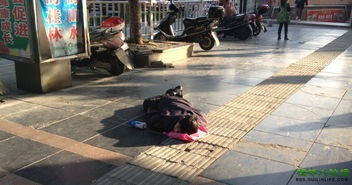falling: (125, 78, 216, 143)
